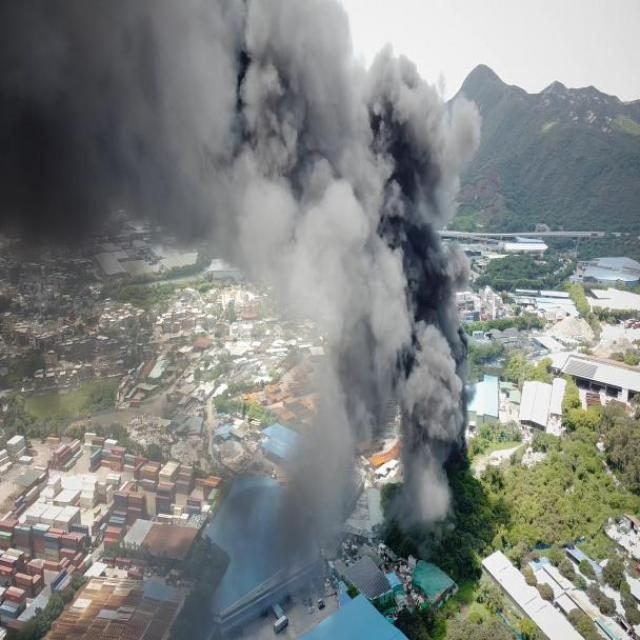Smoke: (0, 0, 478, 609)
